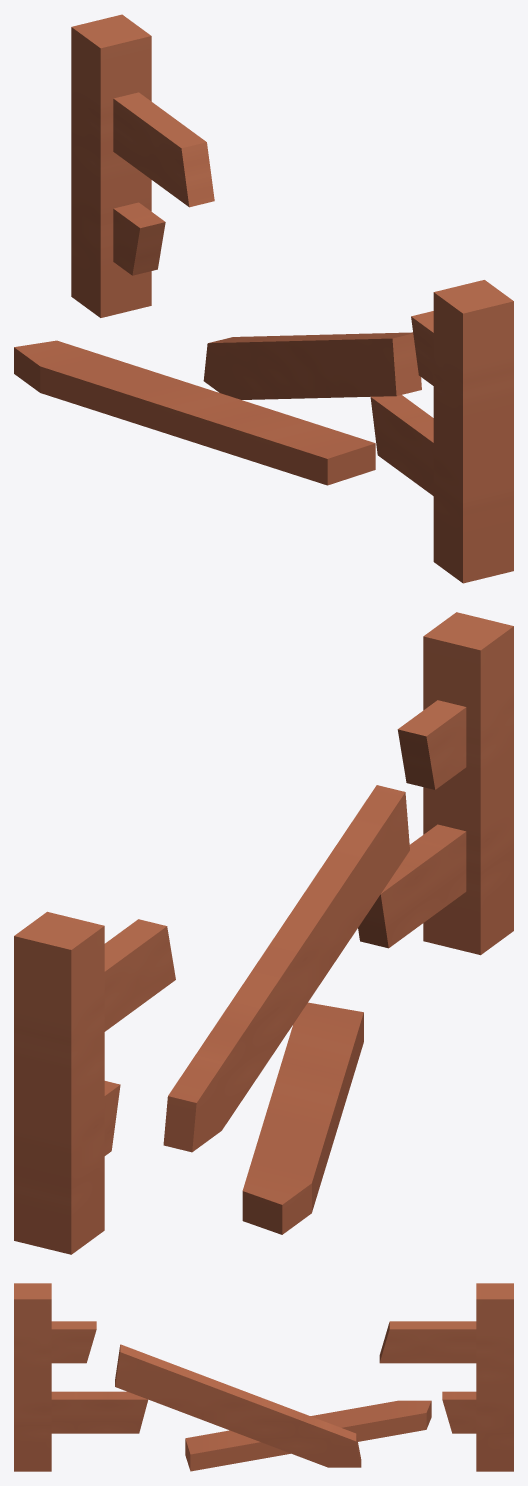
The model's file is fenceBroken.fbx.
The picture shows the model from 3 angles, top to bottom: view 1: azimuth 30°, elevation 25°; view 2: azimuth 150°, elevation 25°; view 3: azimuth 270°, elevation 25°; orthographic projection. The views are drawn at different scales.
Visible parts, largest first — view 1: fenceBroken; view 2: fenceBroken; view 3: fenceBroken.
Boxes of the visible parts, bbox=[...] form: fenceBroken: bbox=[14, 14, 513, 583]; fenceBroken: bbox=[14, 612, 513, 1254]; fenceBroken: bbox=[14, 1283, 513, 1471].
Size of the model in its own units: 0.2547 by 1 by 0.38.
